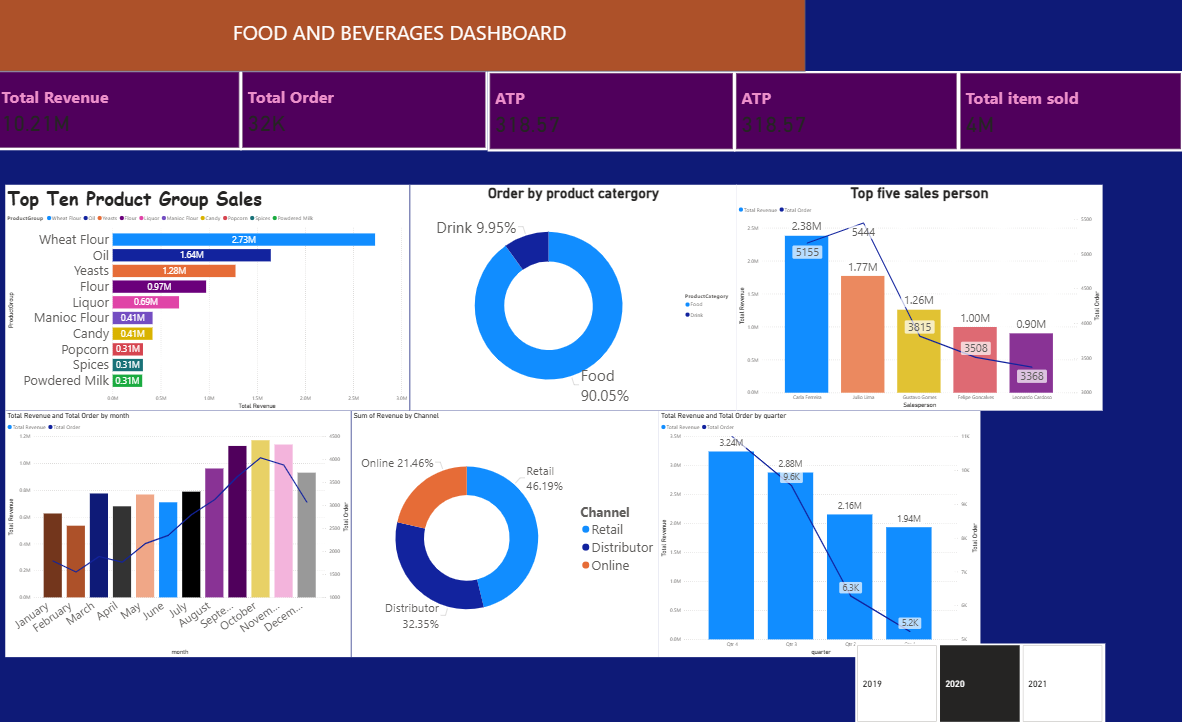

The dashboard page shown, as its layout file describes it:
{"tool":"powerbi","page":{"name":"Page 1","canvas":[2920,1800],"ordinal":0},"visuals":[{"type":"cardVisual","fields":{"Data":["sales.Total Revenue"]},"box":[0,194.1,607.3,197.2],"z":0},{"type":"cardVisual","fields":{"Data":["sales.ATP"]},"box":[1211.5,197.2,607.3,197.2],"z":3},{"type":"cardVisual","fields":{"Data":["sales.Total Order"]},"box":[604.2,194.1,607.3,197.2],"z":4},{"type":"cardVisual","fields":{"Data":["sales.ATP","sales.Total item sold"]},"box":[1817.4,197.7,1103.2,197.7],"z":5},{"type":"barChart","title":"Top Ten Product Group Sales","fields":{"Category":["Product.ProductGroup"],"Y":["sales.Total Revenue"],"Series":["Product.ProductGroup"]},"box":[28.7,475.1,991.6,554.8],"z":6},{"type":"lineStackedColumnComboChart","title":"Top five sales person","fields":{"Category":["sales.Salesperson"],"Y":["sales.Total Revenue"],"Y2":["sales.Total Order"]},"box":[1821.9,475.8,898.4,554.1],"z":7},{"type":"donutChart","title":"Order by product catergory","fields":{"Y":["sales.Total Order"],"Category":["Product.ProductCategory"]},"box":[1020.5,475.8,801.4,554.1],"z":8},{"type":"lineClusteredColumnComboChart","fields":{"Y2":["sales.Total Order"],"Y":["sales.Total Revenue"],"Category":["dateTable.month"]},"box":[28.2,1029.9,848.3,604.2],"z":9},{"type":"donutChart","fields":{"Category":["sales.Channel"],"Y":["Sum(sales.Revenue)"]},"box":[876.5,1029.9,754.4,604.2],"z":10},{"type":"lineClusteredColumnComboChart","fields":{"Category":["dateTable.quarter"],"Y":["sales.Total Revenue"],"Y2":["sales.Total Order"]},"box":[1630.9,1029.9,788.9,604.2],"z":11},{"type":"shape","box":[0,0,1990.9,197.2],"z":12},{"type":"advancedSlicerVisual","fields":{"Values":["dateTable.Date.Variation.Date Hierarchy.Year"]},"box":[2113,1602.7,613.6,197.2],"z":13}]}

Visuals, with their boxes in screenshot pixels (x1, y1, x2, y2), scaled from the page's 2920x1800 canvas onto the 1182x722 screenshot:
cardVisual - sales.Total Revenue: <bbox>0, 78, 246, 157</bbox>
cardVisual - sales.ATP: <bbox>490, 79, 736, 158</bbox>
cardVisual - sales.Total Order: <bbox>245, 78, 490, 157</bbox>
cardVisual - sales.ATP x sales.Total item sold: <bbox>736, 79, 1181, 159</bbox>
"Top Ten Product Group Sales" barChart: <bbox>12, 191, 413, 413</bbox>
"Top five sales person" lineStackedColumnComboChart: <bbox>737, 191, 1101, 413</bbox>
"Order by product catergory" donutChart: <bbox>413, 191, 737, 413</bbox>
lineClusteredColumnComboChart - sales.Total Order x sales.Total Revenue: <bbox>11, 413, 355, 655</bbox>
donutChart - sales.Channel x Sum(sales.Revenue): <bbox>355, 413, 660, 655</bbox>
lineClusteredColumnComboChart - dateTable.quarter x sales.Total Revenue: <bbox>660, 413, 980, 655</bbox>
shape: <bbox>0, 0, 806, 79</bbox>
advancedSlicerVisual - dateTable.Date.Variation.Date Hierarchy.Year: <bbox>855, 643, 1104, 721</bbox>
